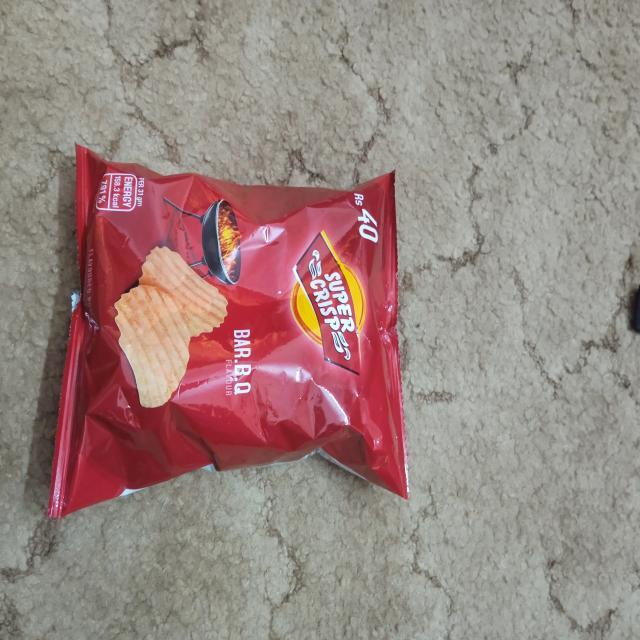Plastic: (57, 142, 409, 524)
